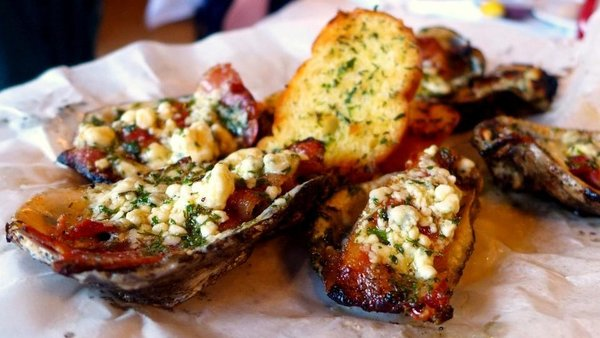sandwich: (0, 5, 426, 313)
